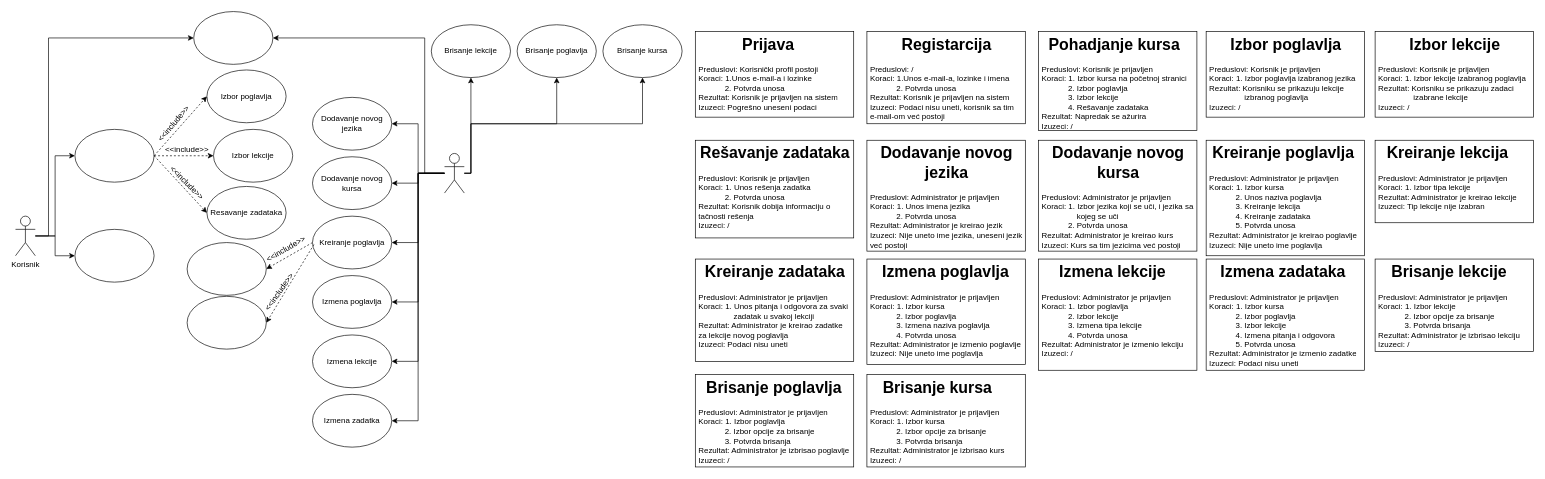
This 1545x479 diagram has some shape labels left out. Each missing label, with the centre of its shape:
Administrator: point 454,173
Kreiranje lekcija: point 226,268
Kreiranje zadataka: point 226,322
Pohadjanje kursa: point 114,155
Prijava: point 233,37
Registracija: point 114,255
